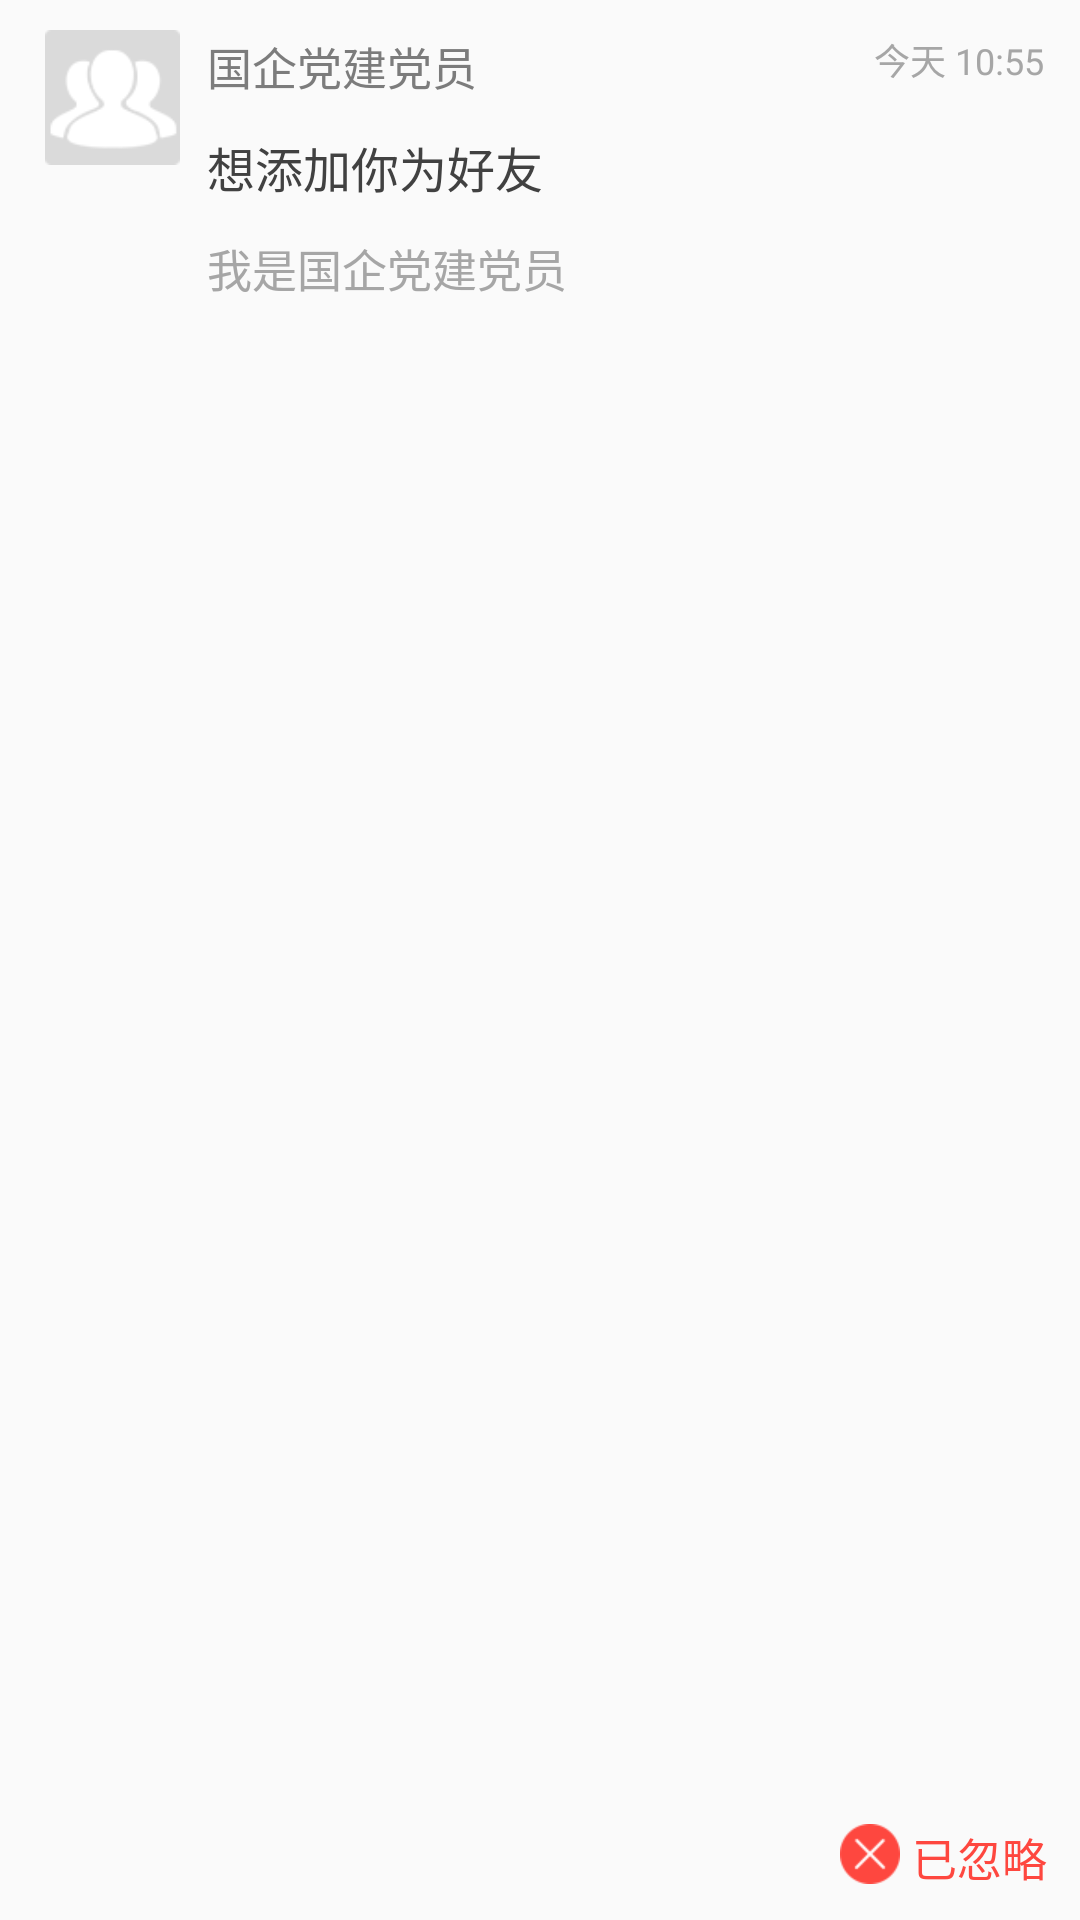

Point at icon controls on the screen. Image size 1080w x 1920h, points as [x,y].
noticehead: [112,97]
wrong: [870,1854]
